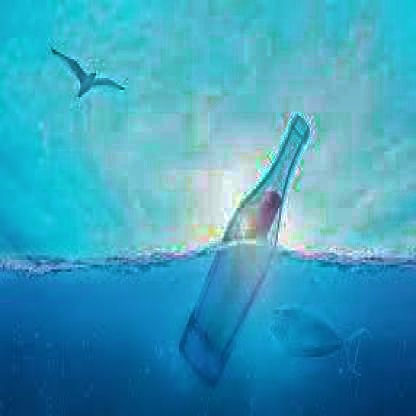gbottle: (180, 116, 308, 390)
